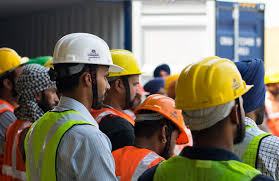Person_wearing_helmet: (177, 57, 252, 125), (60, 30, 119, 84)
